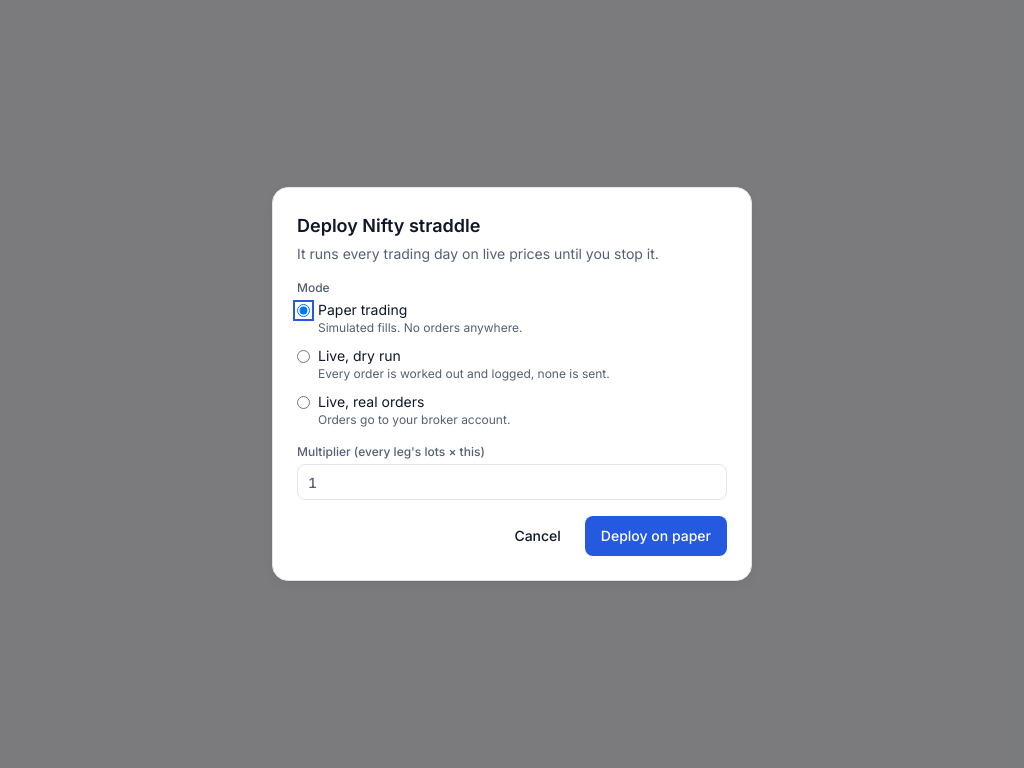
Test: DeployDialog › runs the pre-flight checks before real orders
Click the radio button labelled "Live, real orders Orders go to your broker account." at (304, 402), box [297,396,310,409]
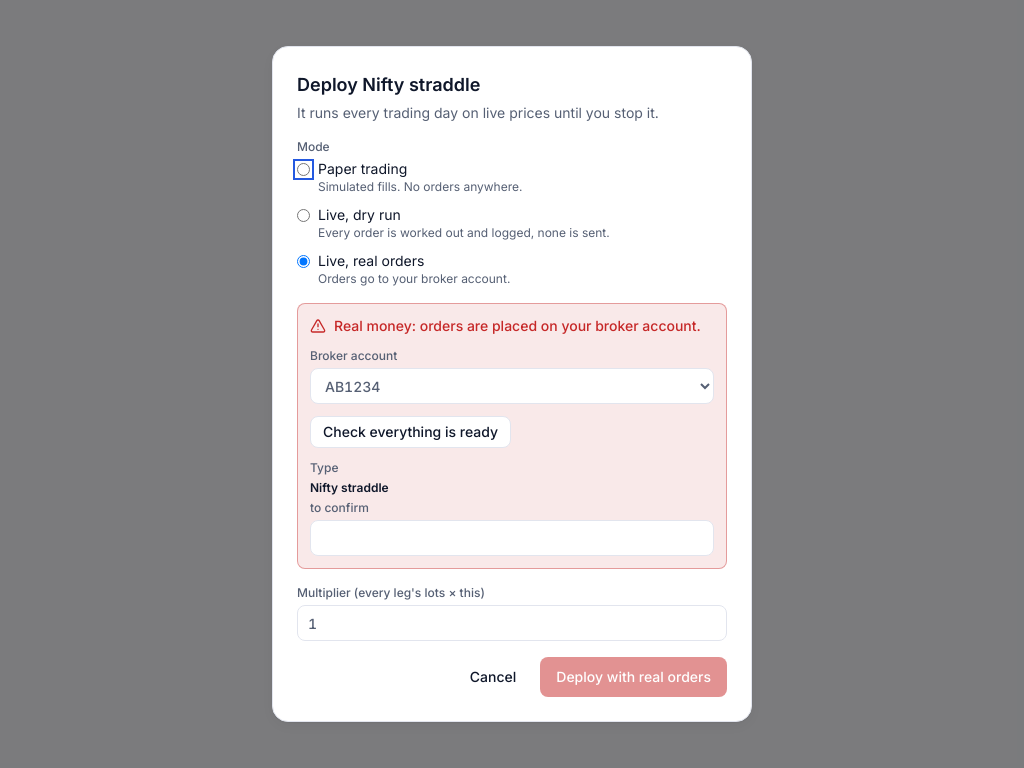
Click the button "Check everything is ready" at (410, 432), box [310,416,511,448]
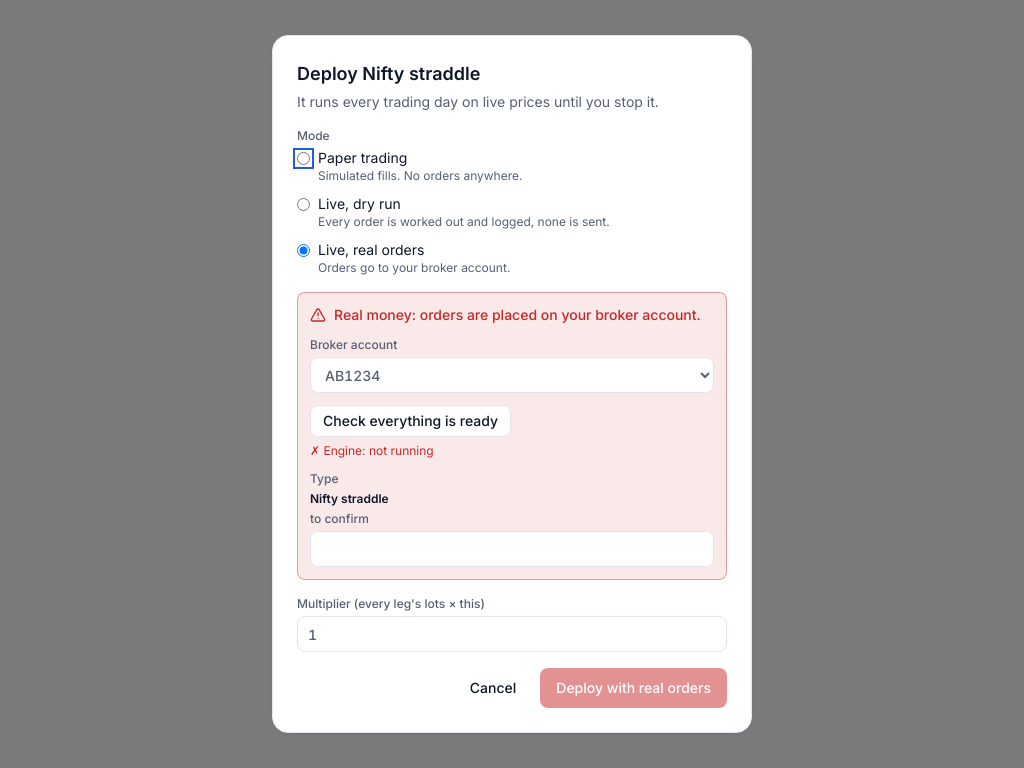
Now the list named "Pre-flight checks" reads "✗ Engine: not running", box [310,443,434,458]
